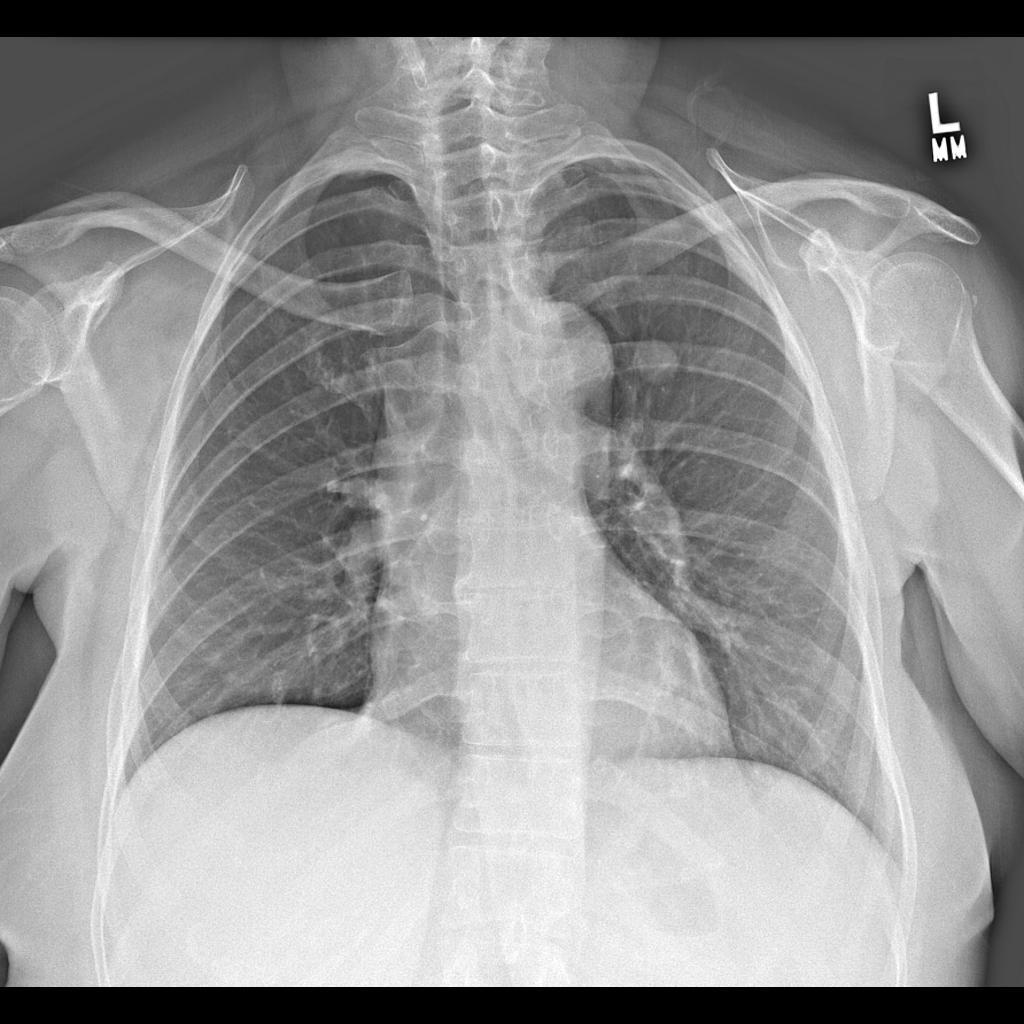Nodule: (630, 334, 683, 390)
